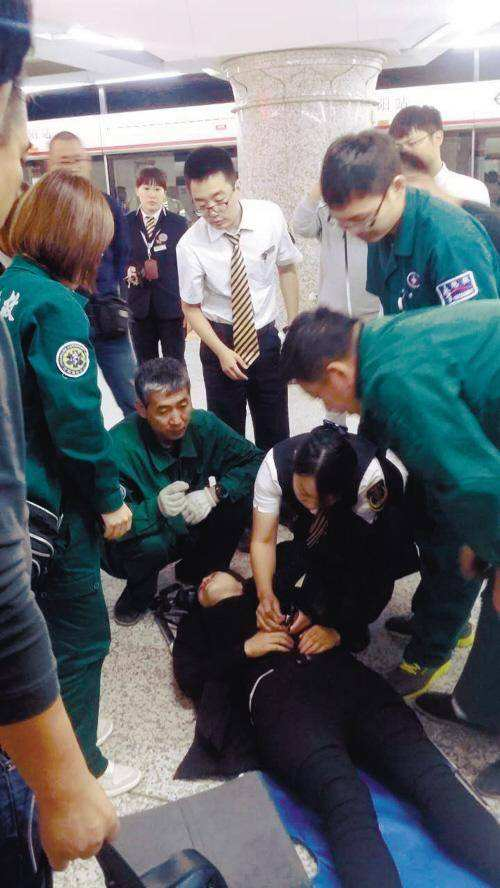10+: (4, 1, 493, 885)
down: (169, 553, 491, 875)
